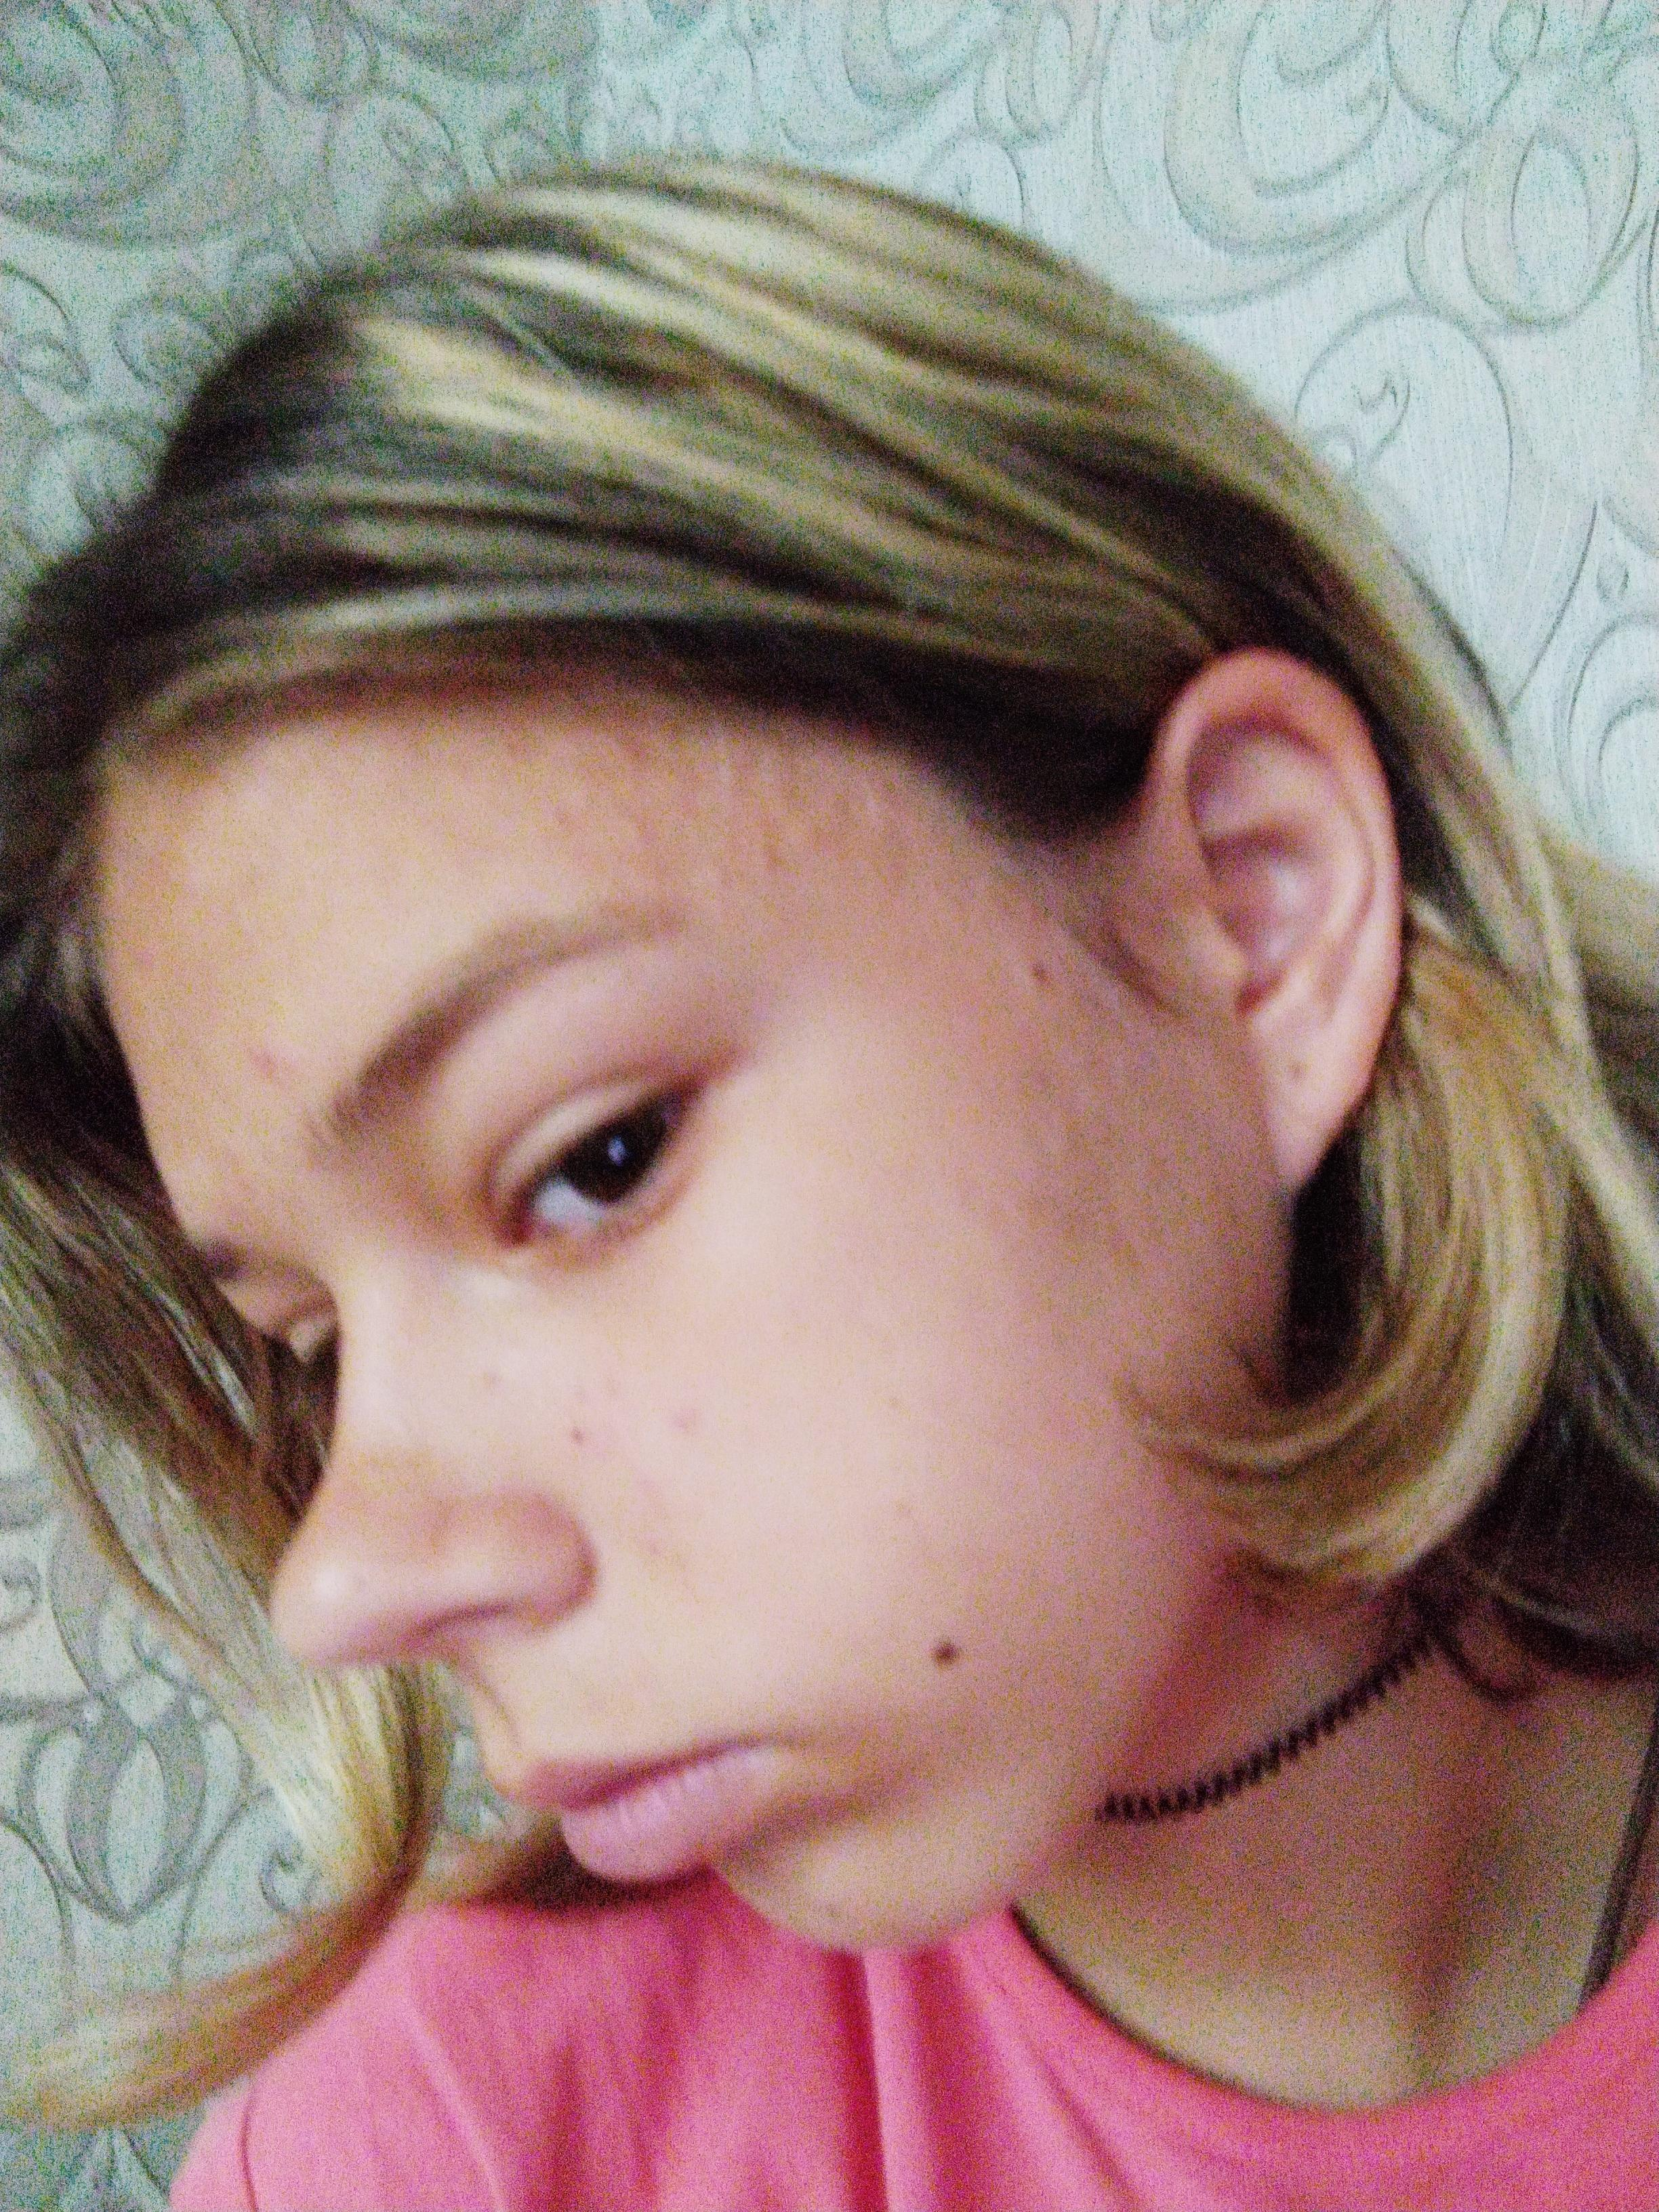Acne: (533, 738, 910, 881), (624, 1475, 685, 1576), (549, 1416, 620, 1465), (227, 1040, 300, 1087), (648, 1397, 702, 1435), (129, 944, 167, 982)
